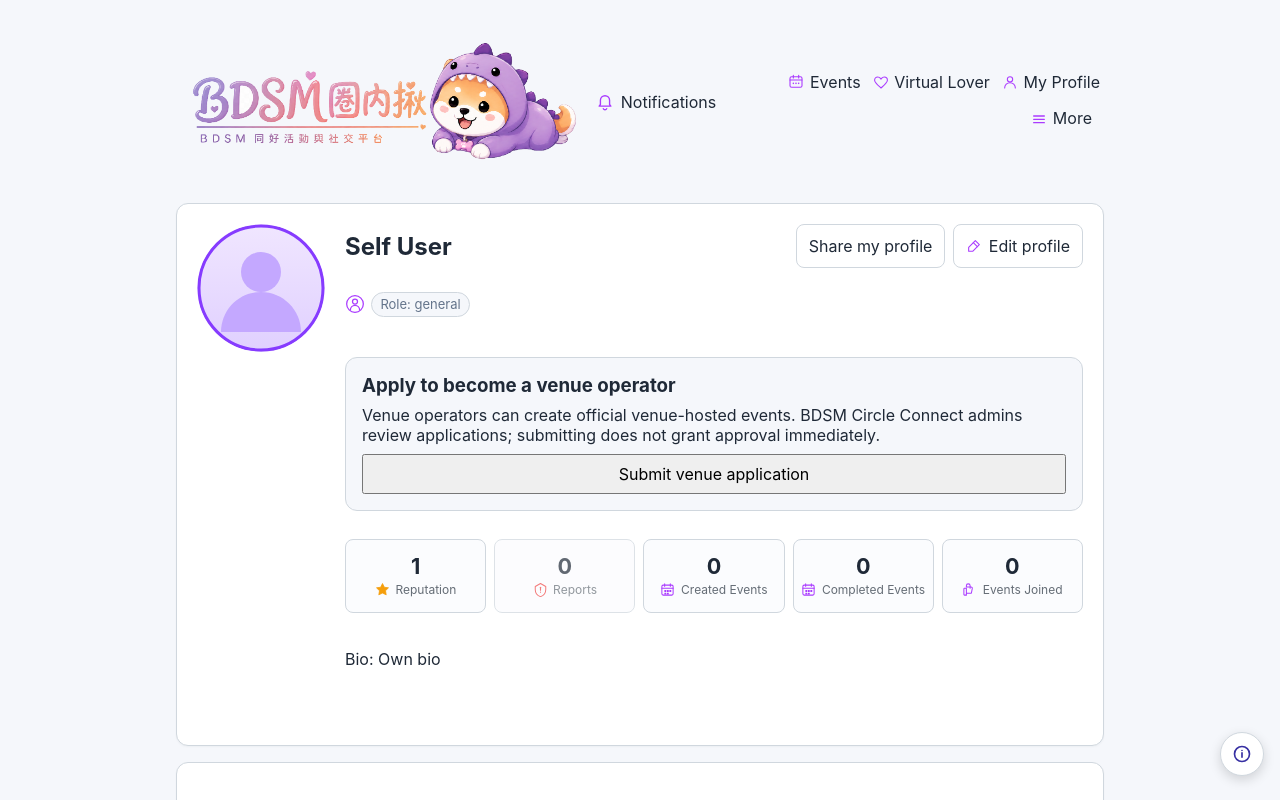
Test: ProfilePage › submits a venue application from the owner profile
The width and height of the screenshot is (1280, 800).
Click the button "Submit venue application" at (714, 474), box [362,454,1066,494]
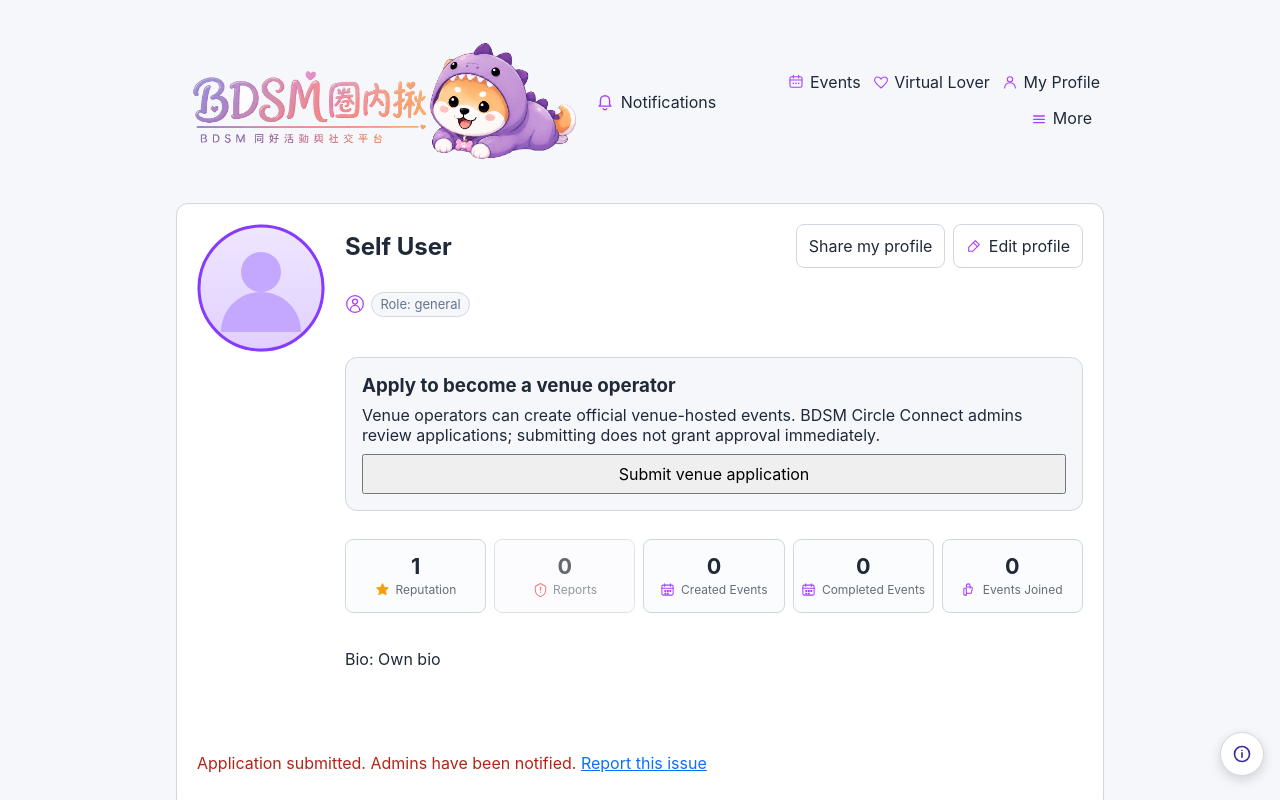
Expected: the text "Application submitted. Admins have been notified." is shown, [197,753,576,773]
